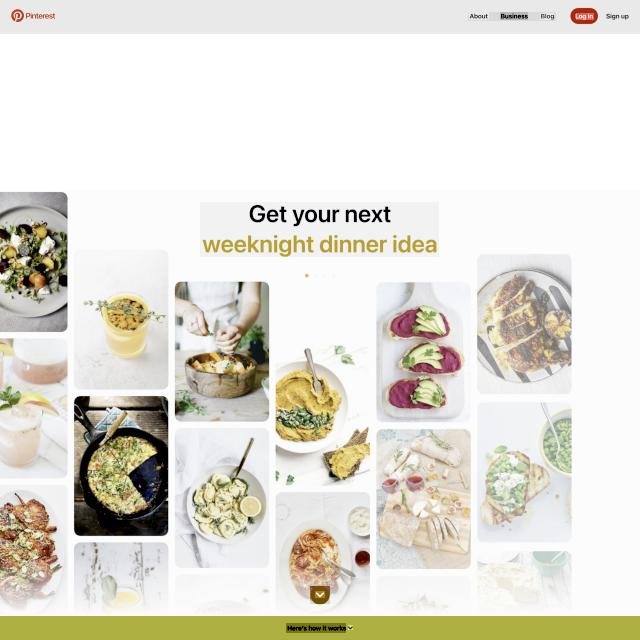CheckBox: (600, 8, 634, 24), (570, 8, 598, 24)
ImageButton: (0, 616, 640, 640)
bag: (0, 0, 640, 34)
card: (0, 190, 640, 616)
carousel: (315, 591, 325, 598), (348, 625, 353, 630)
data feed: (286, 623, 346, 633), (500, 12, 528, 20), (606, 12, 628, 21), (469, 12, 489, 20), (576, 13, 594, 20), (540, 13, 554, 20)
date picker: (10, 8, 56, 23)
decoration: (468, 12, 556, 21), (310, 586, 330, 604)
dropdown: (303, 271, 337, 281)
image: (200, 202, 439, 257)
